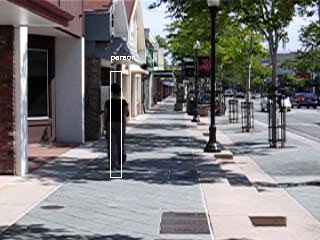person: (102, 82, 129, 172), (101, 82, 128, 172), (103, 82, 130, 172), (102, 81, 129, 171), (102, 83, 129, 173)
target_negative: (68, 137, 249, 190), (163, 129, 248, 223), (222, 72, 320, 144), (205, 91, 288, 102), (310, 182, 316, 221), (67, 203, 71, 225)
